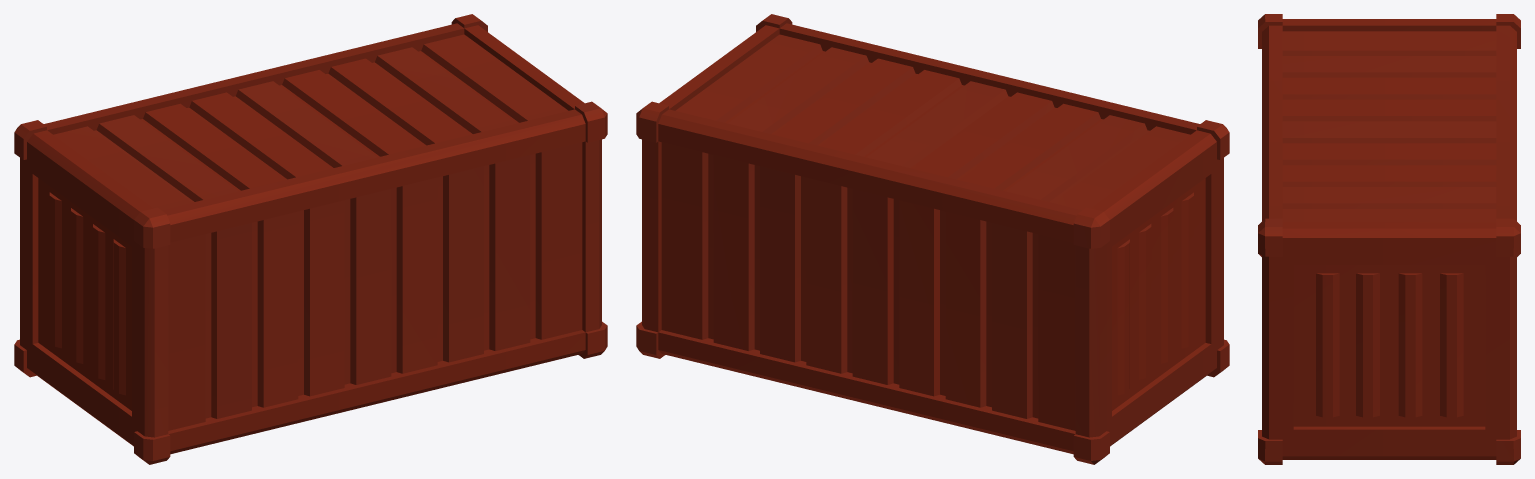
File: Container2.fbx
3 renders of one model, left to right at view 1: azimuth 30°, elevation 25°; view 2: azimuth 150°, elevation 25°; view 3: azimuth 270°, elevation 25°, orthographic. The views are drawn at different scales.
Visible parts, largest first — view 1: Container2; view 2: Container2; view 3: Container2.
Boxes of the visible parts, x1,y1,x2,y2 form: Container2: (14,14,607,464); Container2: (636,14,1229,464); Container2: (1258,14,1520,464).
Size of the model in its own units: 309 by 157 by 157.
